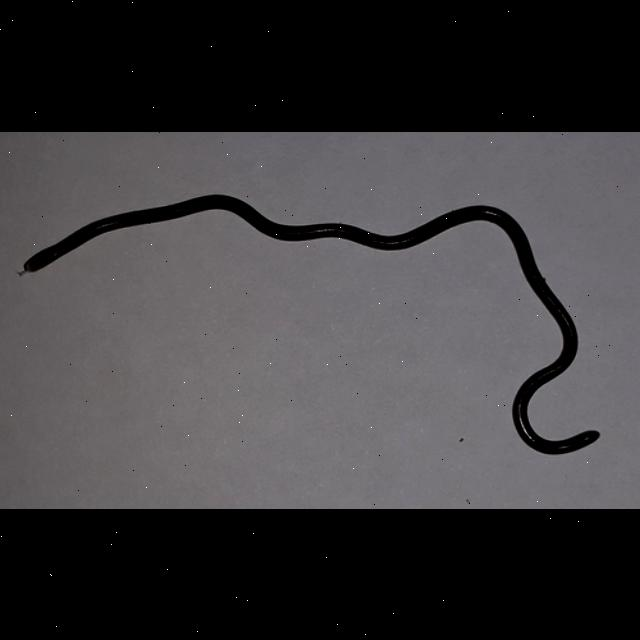snake: (14, 191, 606, 461)
